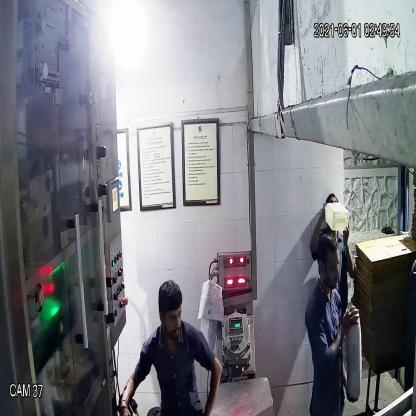no_goggles: (153, 302, 185, 327), (314, 255, 343, 279)
